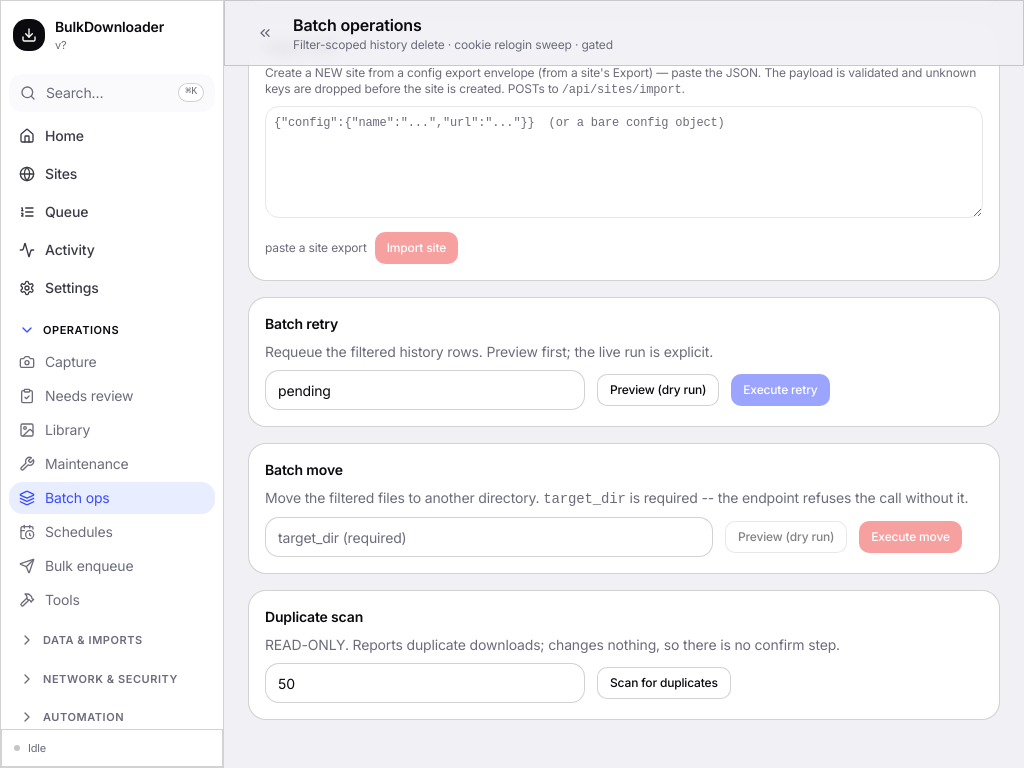
Test: BatchOps Execute retry is confirm-gated (o1671-a13) › a single click opens a confirm dialog and sends no live retry
The image size is (1024, 768).
(page scrolled)
Replace the text in the field named "reset to status" with "queued": (425, 390) left=265, top=370, right=585, bottom=410
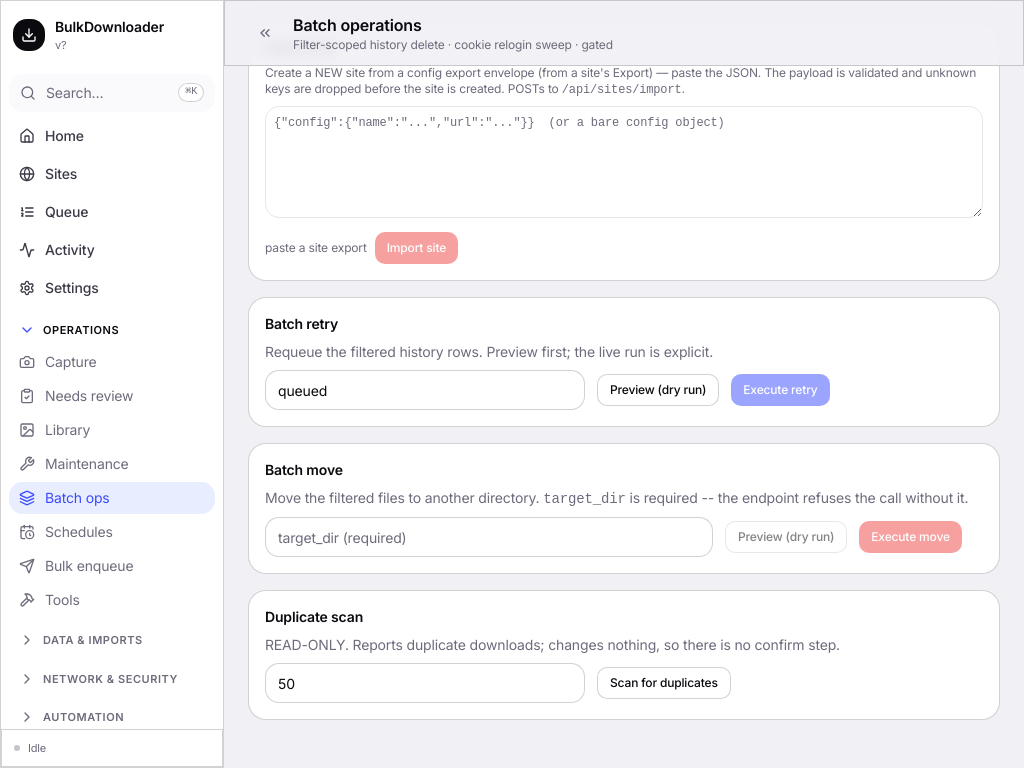
Click the button "Preview (dry run)" below "Batch retry": (658, 390) left=597, top=374, right=719, bottom=406
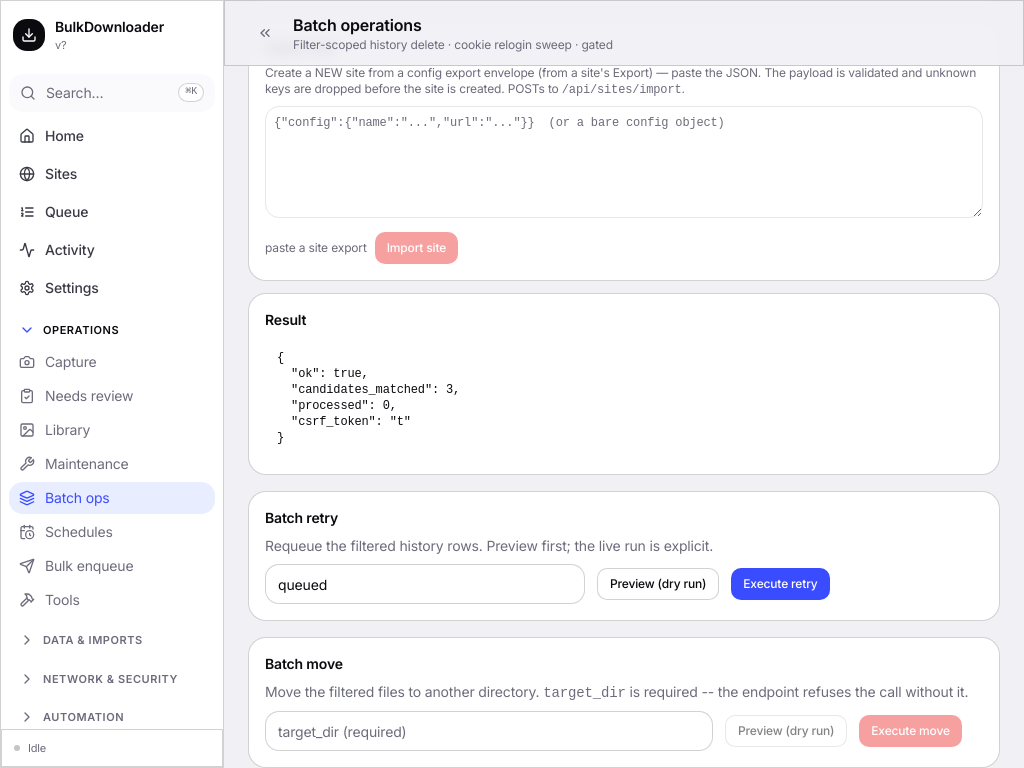
Expected: the button "Execute retry" is enabled
Click the button "Execute retry": (780, 584) left=731, top=568, right=830, bottom=600
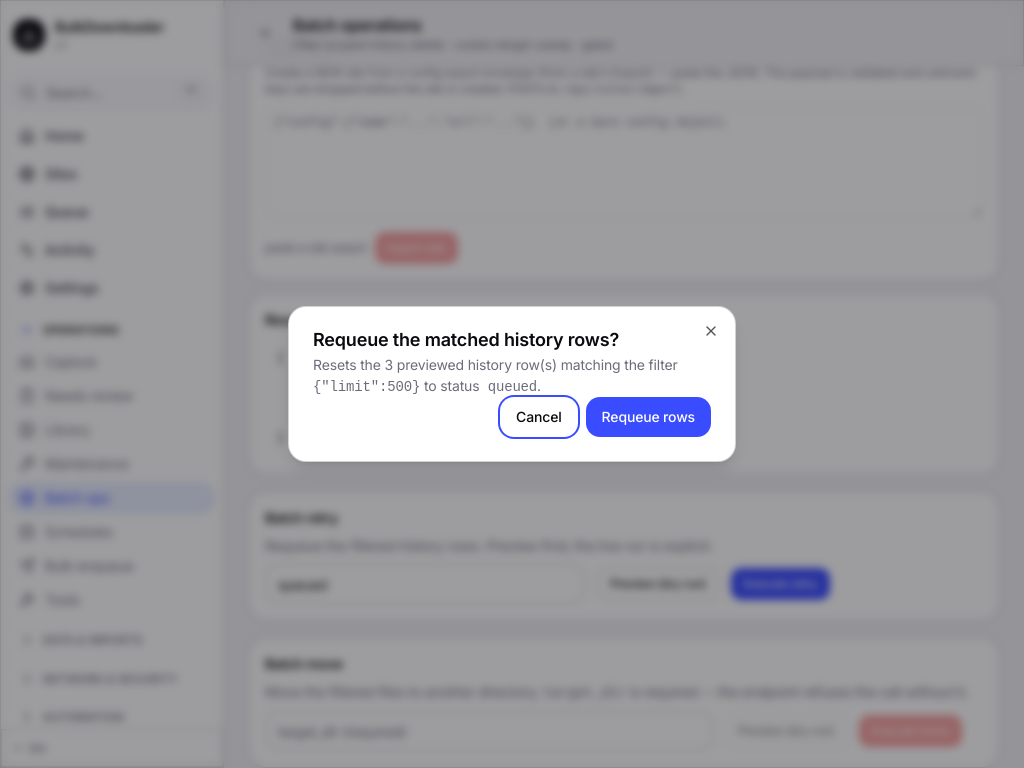
Expected: the text "queued" is shown, left=479, top=379, right=537, bottom=395
